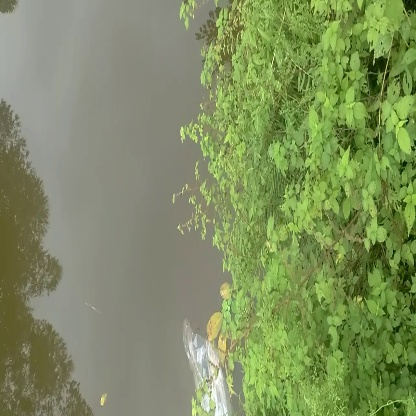plastic-bag: (181, 323, 237, 416)
